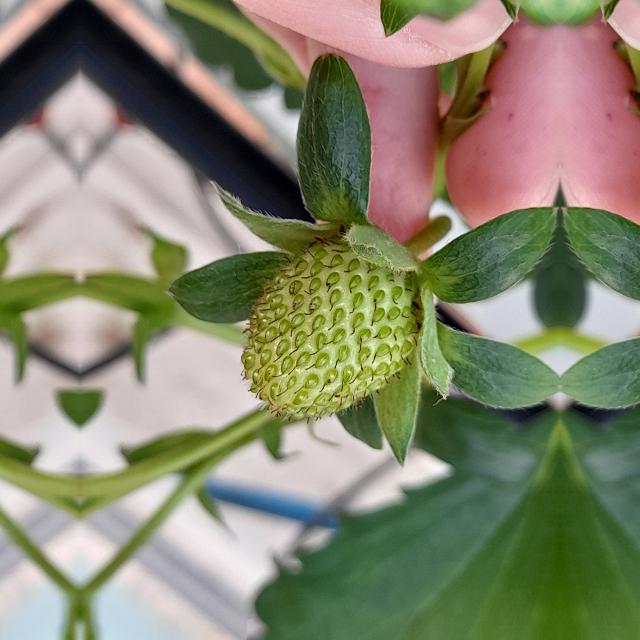Health_25: (240, 232, 420, 424)
